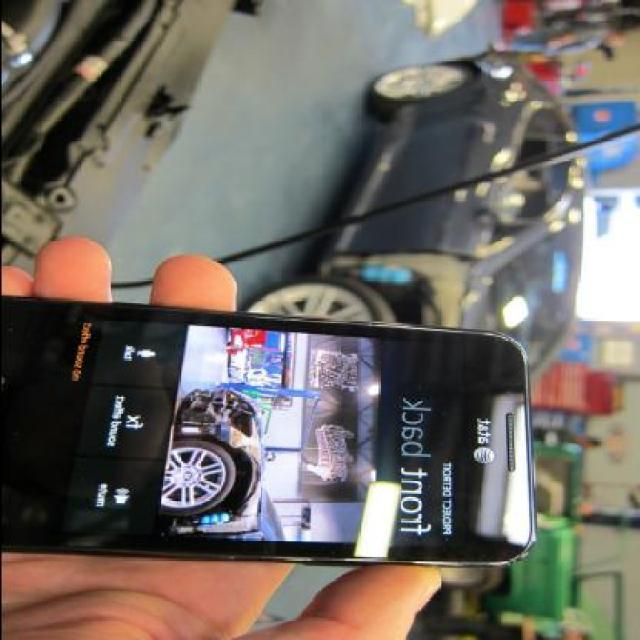phone: (6, 295, 557, 569)
